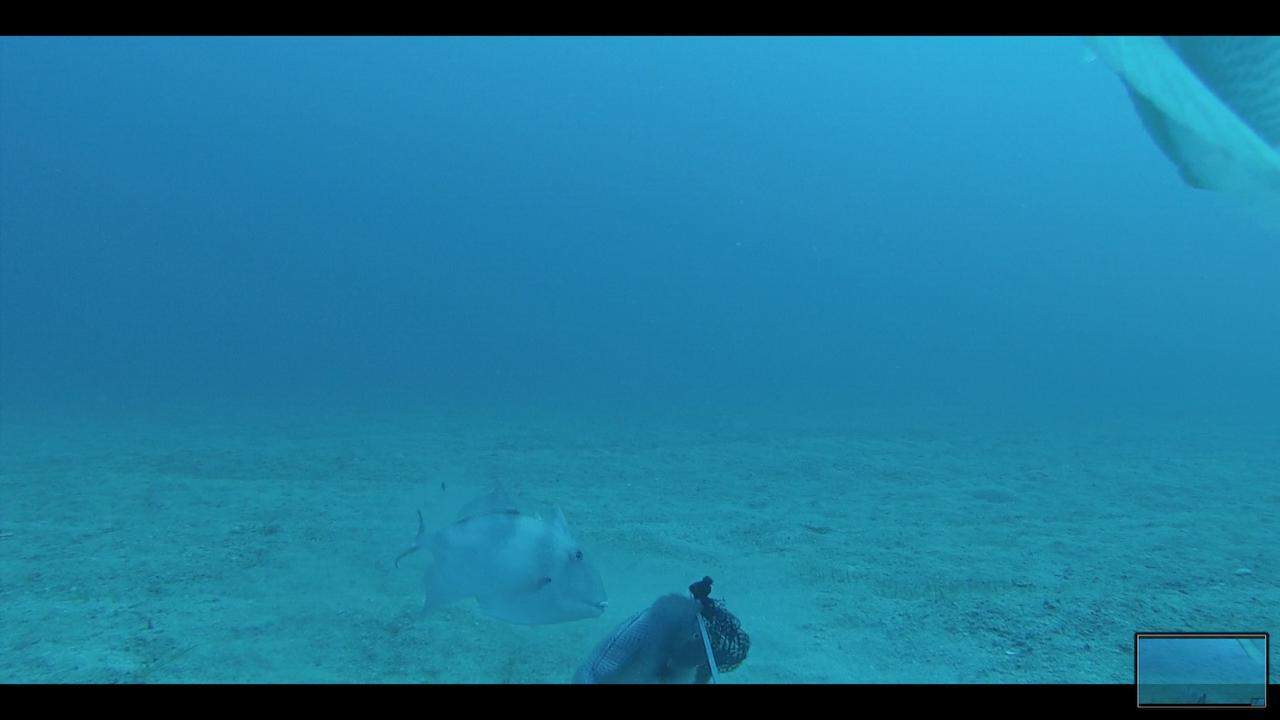balistes: (386, 477, 609, 627)
